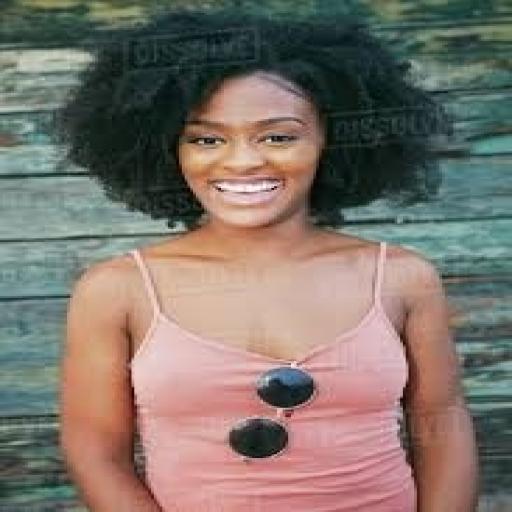laughing: (48, 8, 484, 510)
